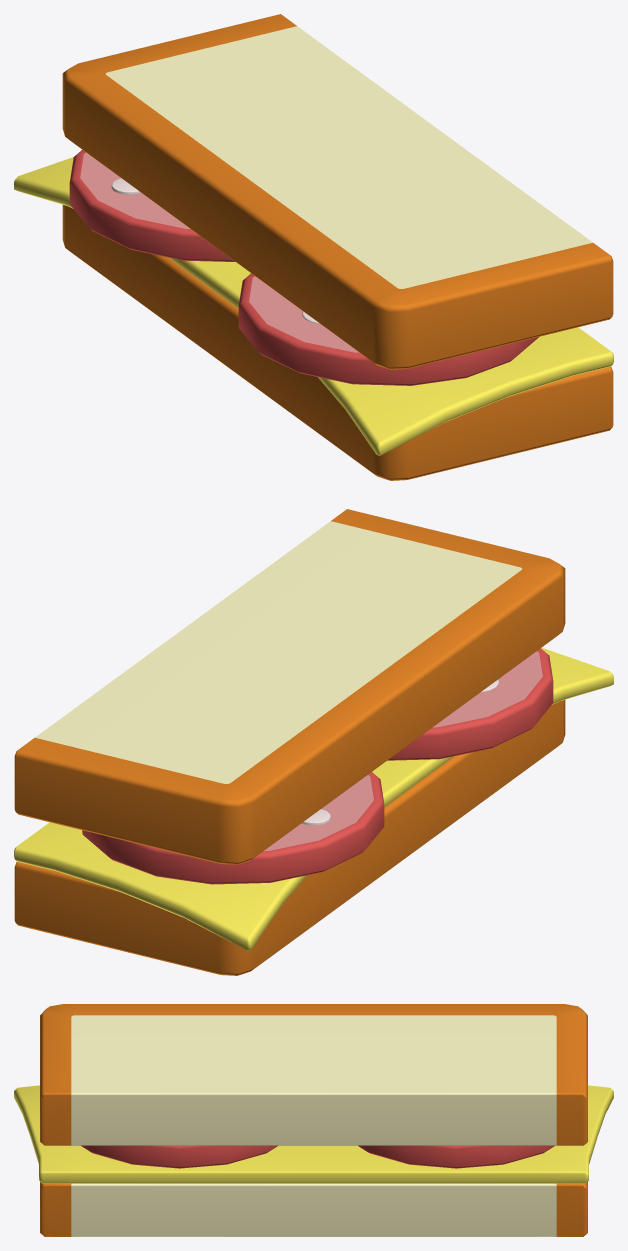
File: Sandwich_Half_1.fbx
3 views of the same model, one above another, from view 1: azimuth 30°, elevation 25°; view 2: azimuth 150°, elevation 25°; view 3: azimuth 270°, elevation 25° (orthographic). The views are drawn at different scales.
Parts seen in each view (by area): view 1: Sandwich_Half_1; view 2: Sandwich_Half_1; view 3: Sandwich_Half_1.
Part boxes in pixels (bbox=[...]): Sandwich_Half_1: bbox=[14, 14, 613, 480]; Sandwich_Half_1: bbox=[14, 509, 613, 975]; Sandwich_Half_1: bbox=[14, 1004, 613, 1236].
Size of the model in its own units: 8.05 by 4.99 by 18.8.
